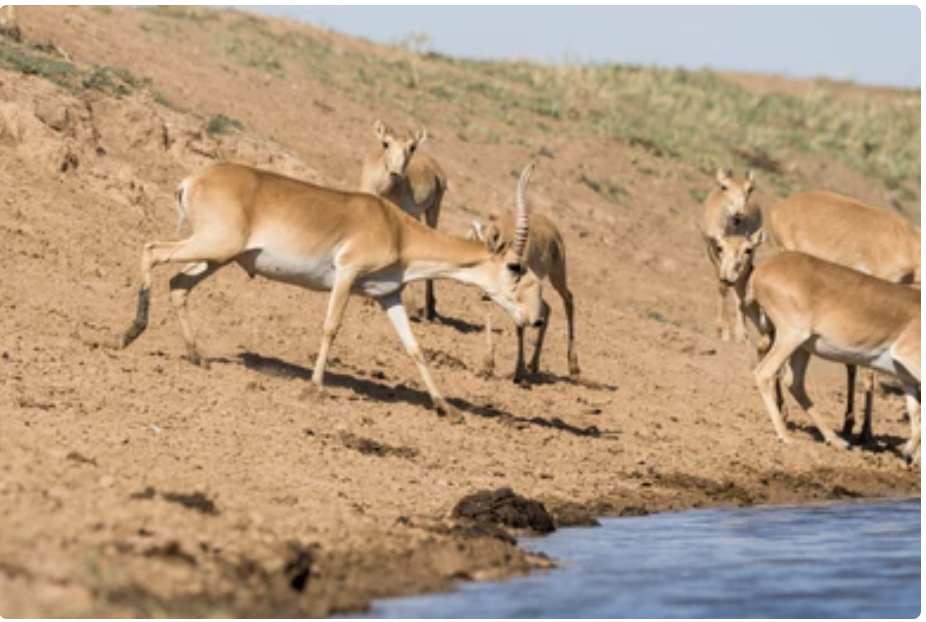saiga: (127, 146, 552, 428)
